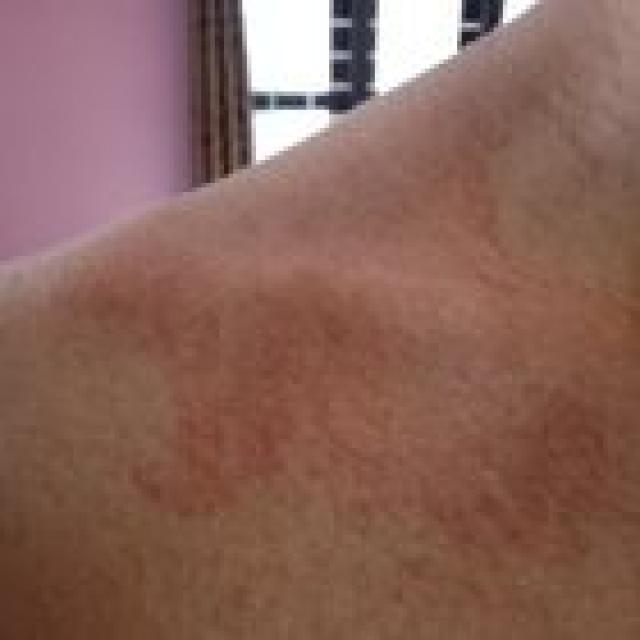Rosacea: (54, 240, 386, 511)
